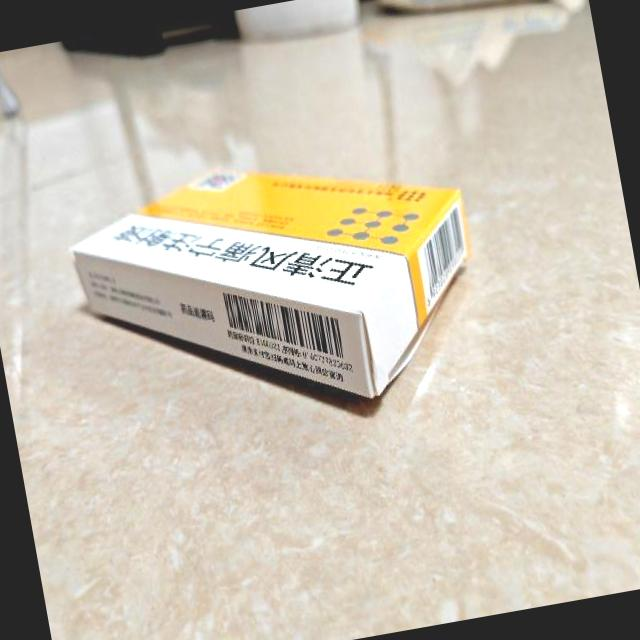box: (61, 127, 494, 444)
